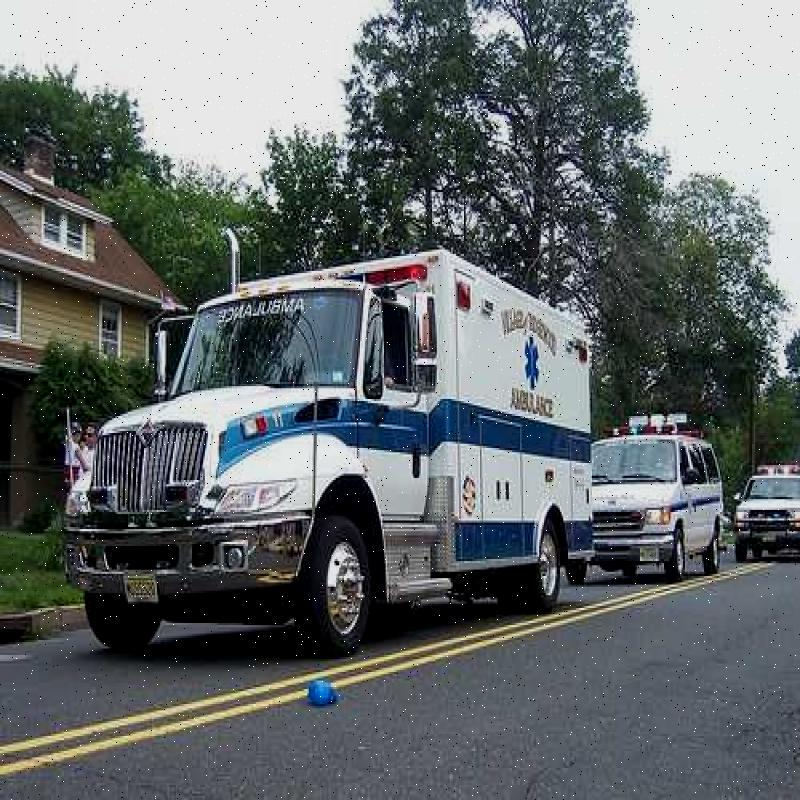AmbulanceSiren: (607, 405, 703, 442)
